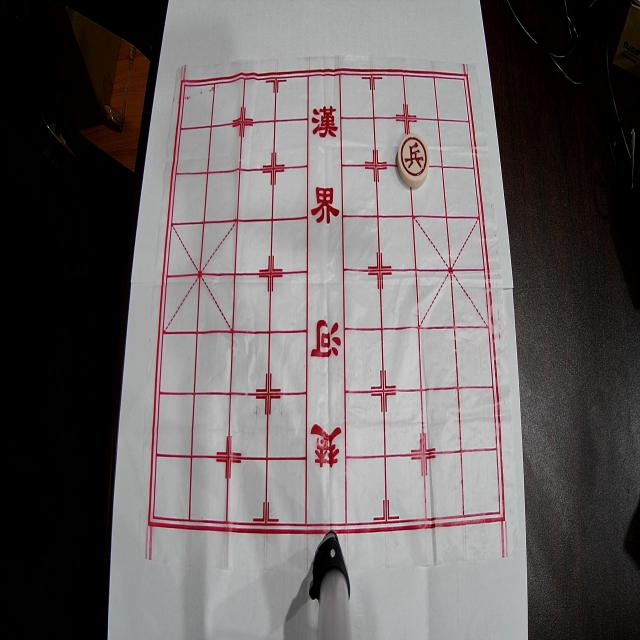red-soldier: (397, 134, 429, 188)
